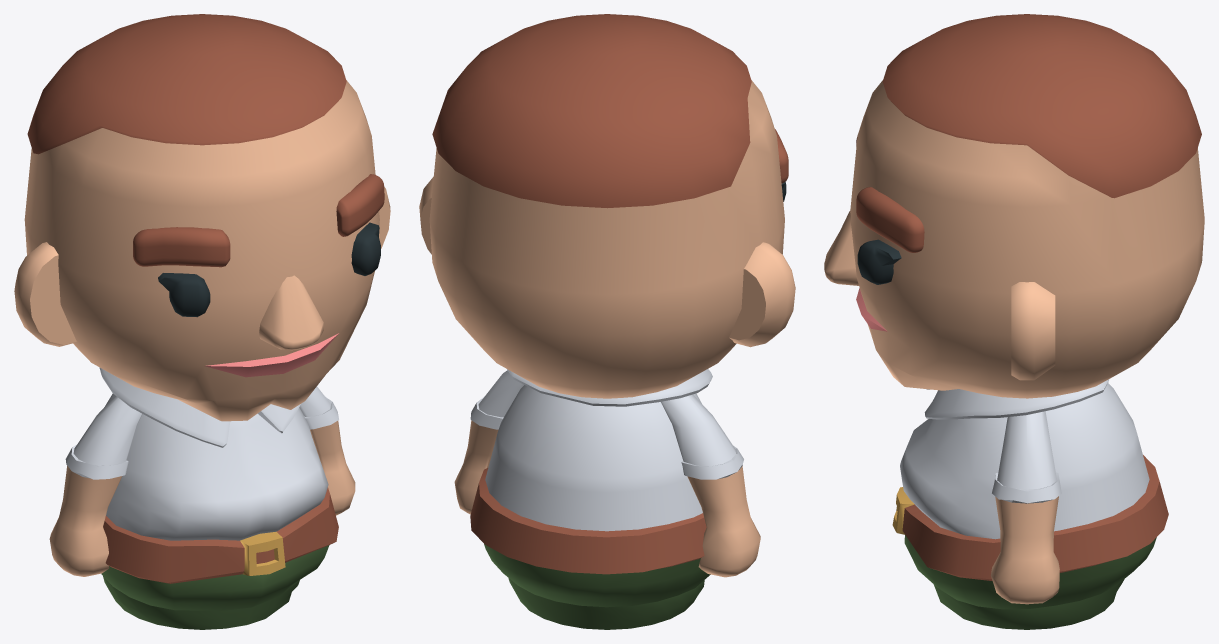
File: mob_male1.fbx
3 views of the same model, side by side, from view 1: azimuth 30°, elevation 25°; view 2: azimuth 150°, elevation 25°; view 3: azimuth 270°, elevation 25° (orthographic).
Visible parts, largest first — view 1: character_mageHead, character_mageBody, character_mageArmRight, character_mageArnLeft; view 2: character_mageHead, character_mageBody, character_mageArmRight, character_mageArnLeft; view 3: character_mageHead, character_mageBody, character_mageArnLeft.
Part boxes in pixels (x1,y1,x2,y2): character_mageHead: (14, 14, 390, 421); character_mageBody: (99, 367, 338, 629); character_mageArmRight: (49, 395, 142, 576); character_mageArnLeft: (299, 386, 355, 515); character_mageHead: (419, 14, 795, 398); character_mageBody: (470, 369, 712, 629); character_mageArmRight: (661, 394, 760, 577); character_mageArnLeft: (454, 370, 523, 514); character_mageHead: (824, 14, 1204, 398); character_mageBody: (892, 379, 1168, 629); character_mageArnLeft: (991, 411, 1061, 604).
Bounding box in the file's own units: 118 × 169 × 105.
